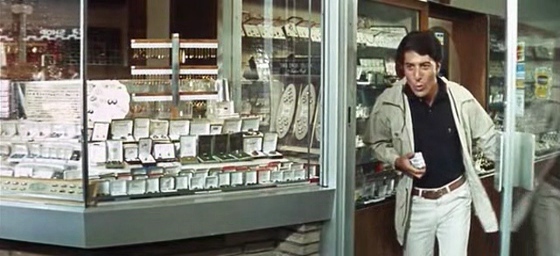face: (403, 56, 436, 97)
mls: (1, 1, 560, 256)
person: (362, 29, 498, 256)
